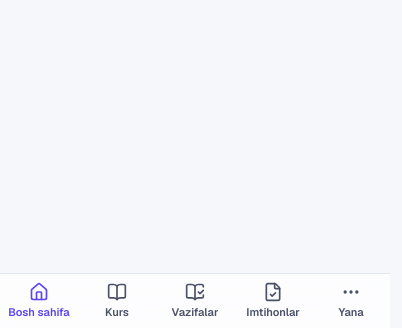
it: PortalNav › telefonda asosiy bo‘limlar panelda, qolganlari "Yana" menyusida — hammasi yetib boriladi
Expected: the link "Progress" is not shown
Click the button "Yana".
click(351, 301)  # box 312,274 -> 390,327
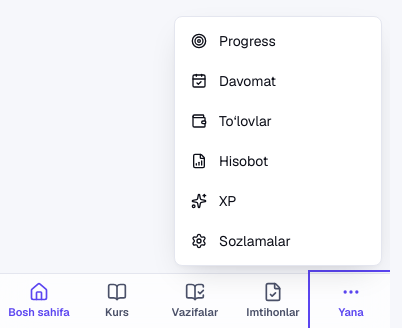
Now the button "Yana" is expanded, box 312,274 -> 390,327
Press Escape
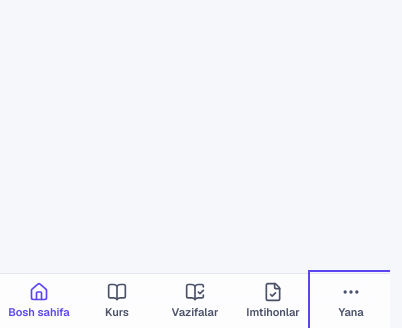
Now the button "Yana" is collapsed, box 312,274 -> 390,327
